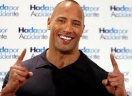male: (43, 1, 88, 58)
